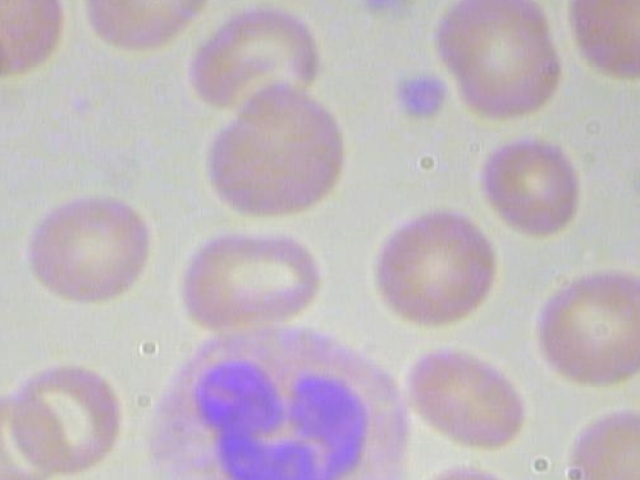Platelets: (379, 62, 456, 130), (362, 0, 431, 28)
RBC: (193, 82, 355, 223), (171, 210, 323, 335), (352, 206, 504, 330), (4, 180, 155, 304), (425, 0, 569, 125), (4, 353, 136, 477), (402, 343, 529, 462), (532, 256, 640, 390), (476, 130, 584, 236), (75, 0, 223, 57), (545, 394, 640, 480), (555, 0, 640, 92), (0, 0, 73, 86)
WBC: (125, 319, 415, 480)
